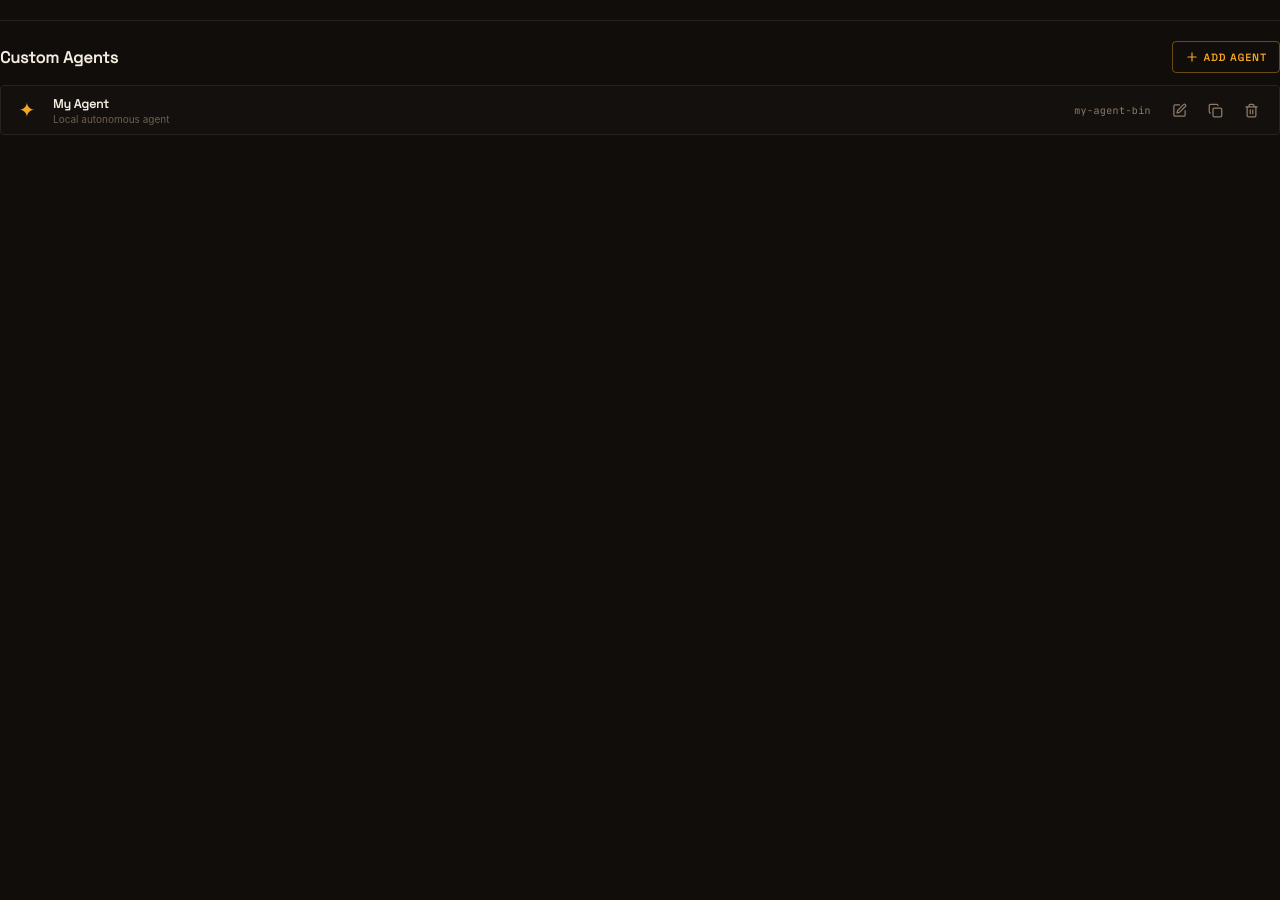
Test: CustomAgentsSection › delete confirm shows the project reference count when in use
The width and height of the screenshot is (1280, 900).
Click the button named "Delete My Agent".
click(1251, 110)  # box [1235,94,1267,126]
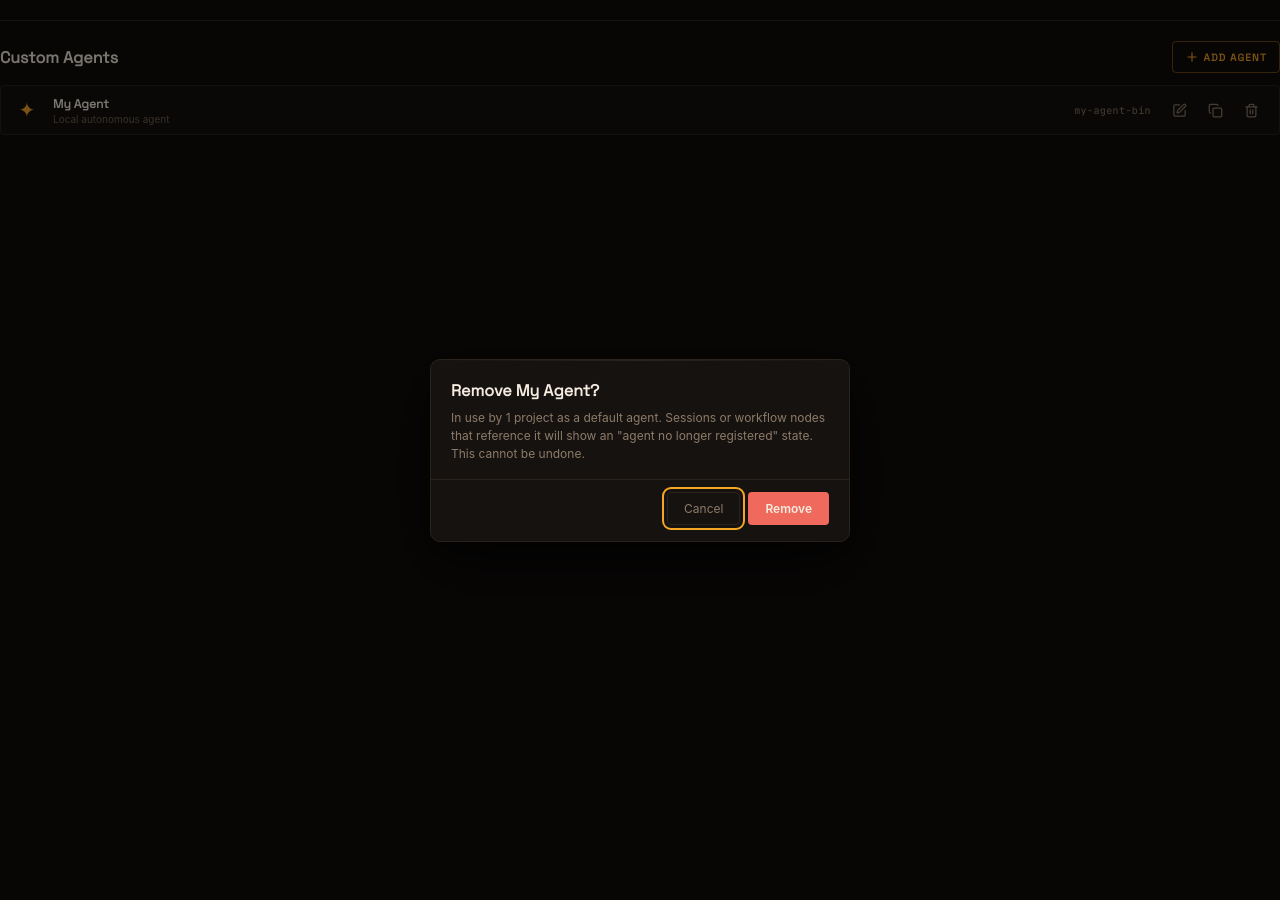
Expected: the text "In use by 1 project" is shown, [451,410,825,460]
